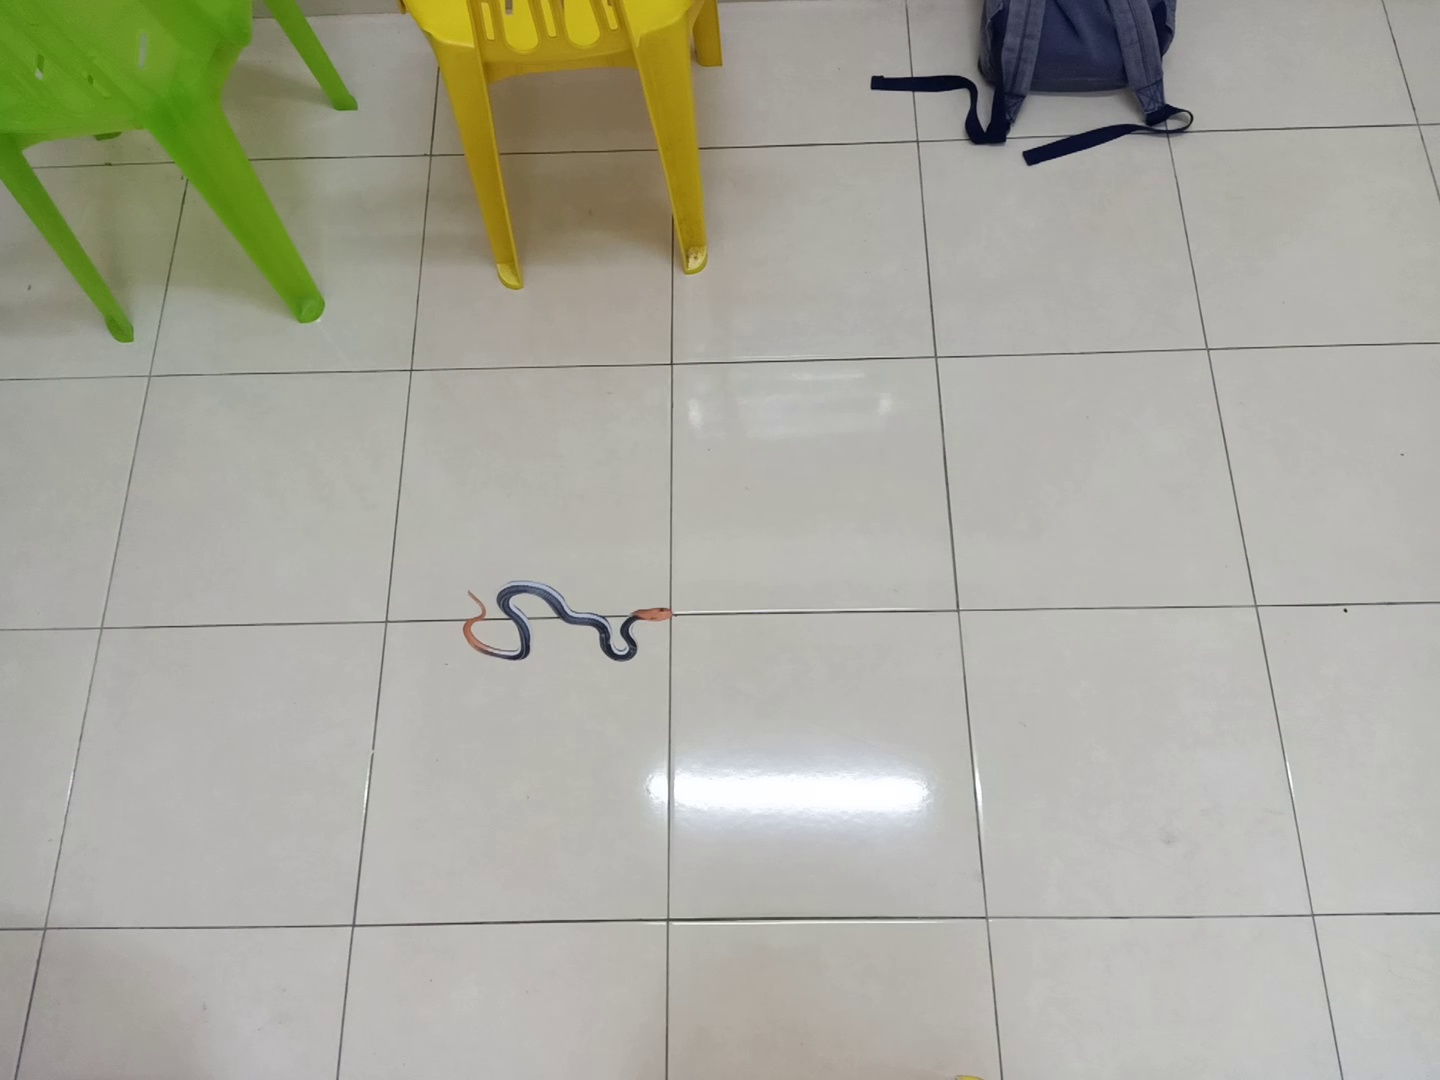snake: (456, 575, 680, 667)
